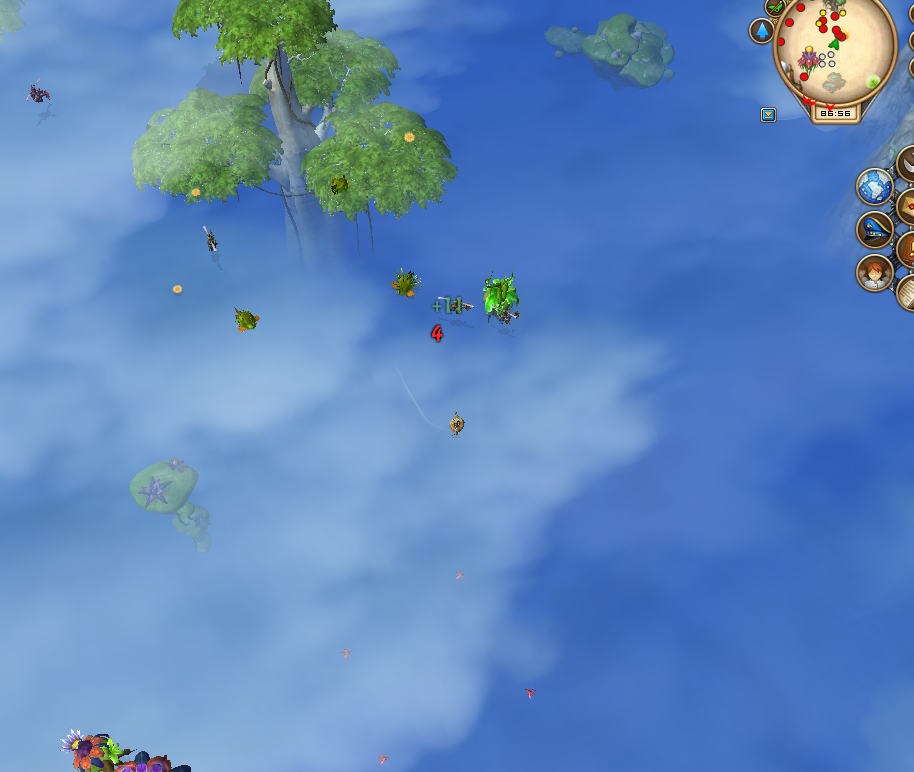dandelion-empty: (475, 266, 524, 326)
fluff: (185, 181, 205, 200), (168, 279, 185, 298), (400, 127, 417, 145)
